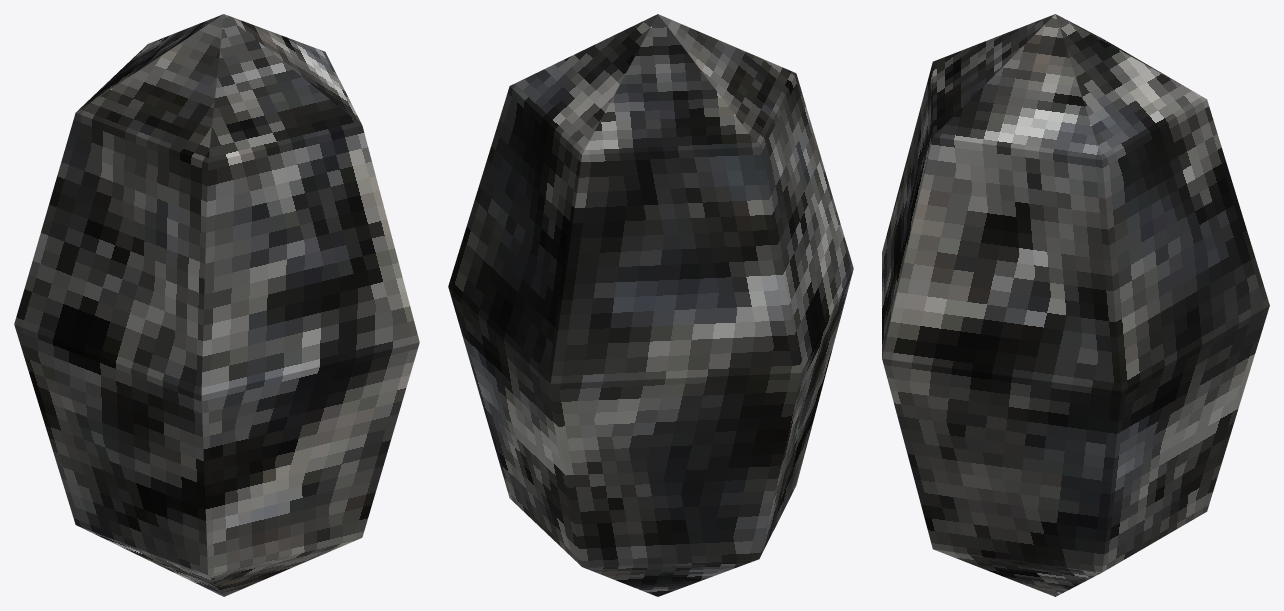
The model's file is Rock_2.glb.
The picture shows the model from 3 angles, left to right: view 1: azimuth 30°, elevation 25°; view 2: azimuth 150°, elevation 25°; view 3: azimuth 270°, elevation 25°; orthographic projection.
Visible parts, largest first — view 1: Rock 2; view 2: Rock 2; view 3: Rock 2.
Part boxes in pixels (left/top/right/bottom): Rock 2: left=14, top=14, right=419, bottom=596; Rock 2: left=448, top=14, right=853, bottom=596; Rock 2: left=882, top=14, right=1269, bottom=596.
Bounding box in the file's own units: 1.33 × 2.1 × 1.27.
1 material, 1 textured.
